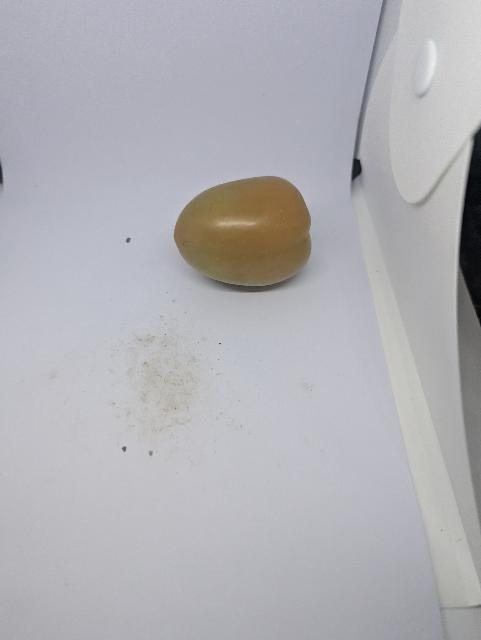turning: (174, 176, 312, 286)
